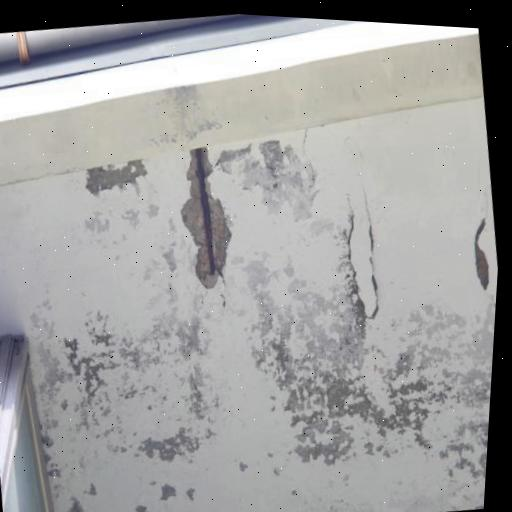exposed_rebar: (197, 151, 218, 273)
spalling: (181, 147, 231, 288), (86, 160, 147, 195), (474, 218, 488, 289)
